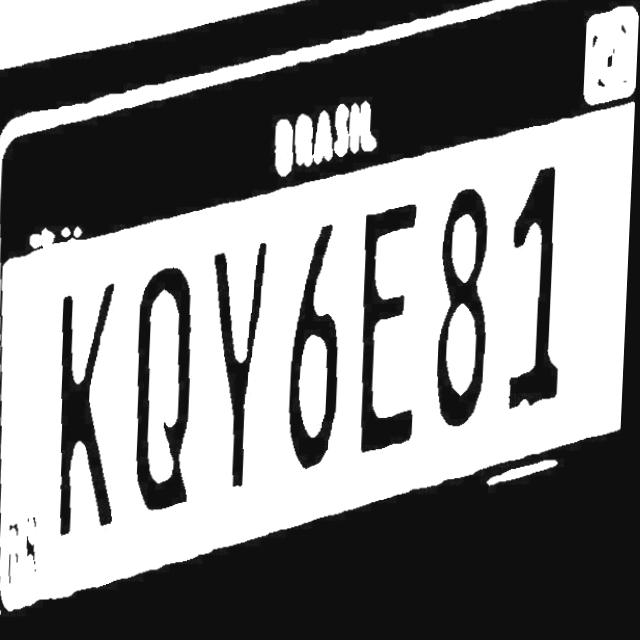1: (509, 164, 590, 429)
6: (288, 217, 356, 477)
8: (437, 170, 509, 438)
e: (359, 195, 426, 459)
k: (57, 270, 133, 526)
q: (129, 254, 202, 515)
y: (209, 238, 276, 494)
